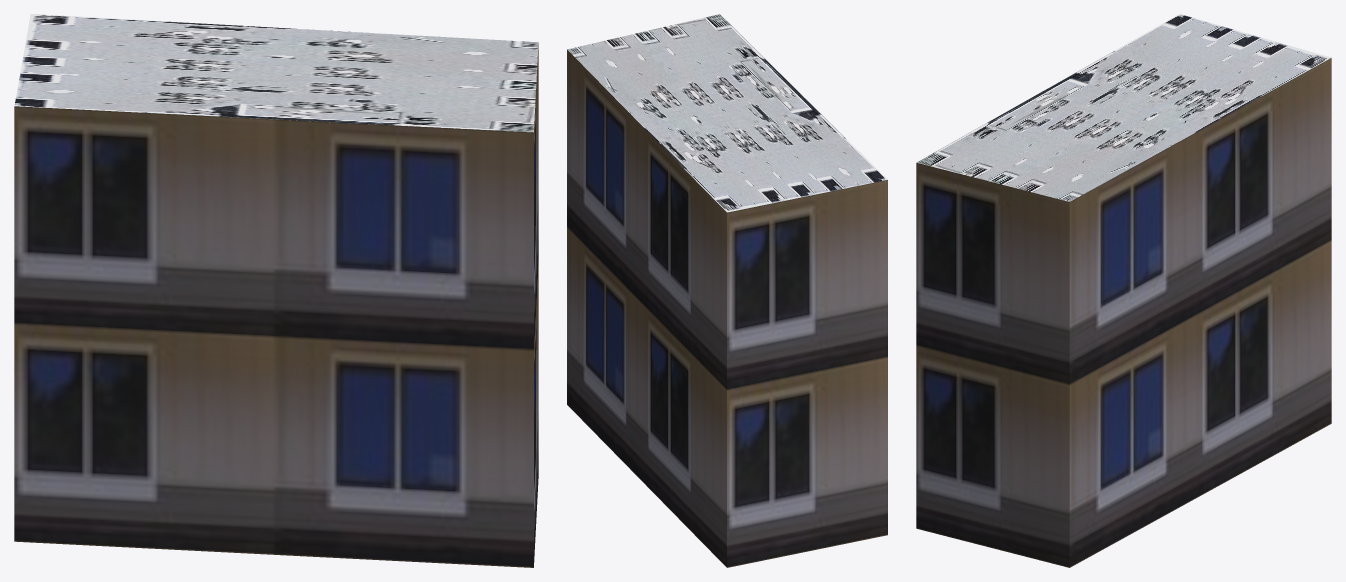
Rendered from ResTex__2403.fbx.
3 renders of one model, left to right at view 1: azimuth 30°, elevation 25°; view 2: azimuth 150°, elevation 25°; view 3: azimuth 270°, elevation 25°, orthographic. The views are drawn at different scales.
Visible parts, largest first — view 1: CityEngineMaterial_5_m, CityEngineMaterial_8_m; view 2: CityEngineMaterial_5_m, CityEngineMaterial_8_m; view 3: CityEngineMaterial_5_m, CityEngineMaterial_8_m.
Boxes of the visible parts, x1,y1,x2,y2 form: CityEngineMaterial_5_m: (14, 44, 538, 567); CityEngineMaterial_8_m: (14, 14, 538, 132); CityEngineMaterial_5_m: (567, 50, 887, 567); CityEngineMaterial_8_m: (567, 14, 887, 212); CityEngineMaterial_5_m: (916, 58, 1331, 567); CityEngineMaterial_8_m: (916, 14, 1331, 201).
Size of the model in its own units: 6.61 by 6 by 6.17.
Materials: 2 (2 with a texture image).
